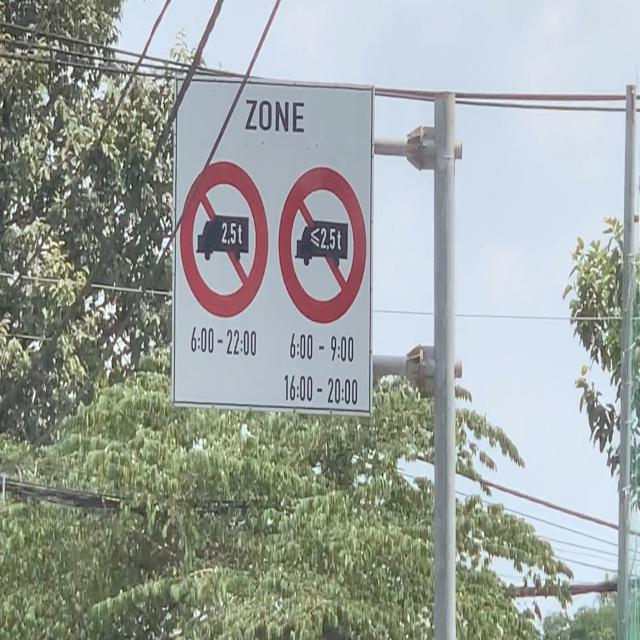Cam con lai: (278, 166, 368, 325), (180, 160, 269, 319)
